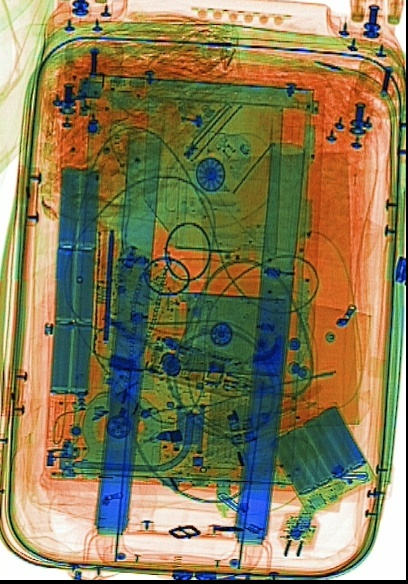powerbank: (267, 402, 376, 513)
